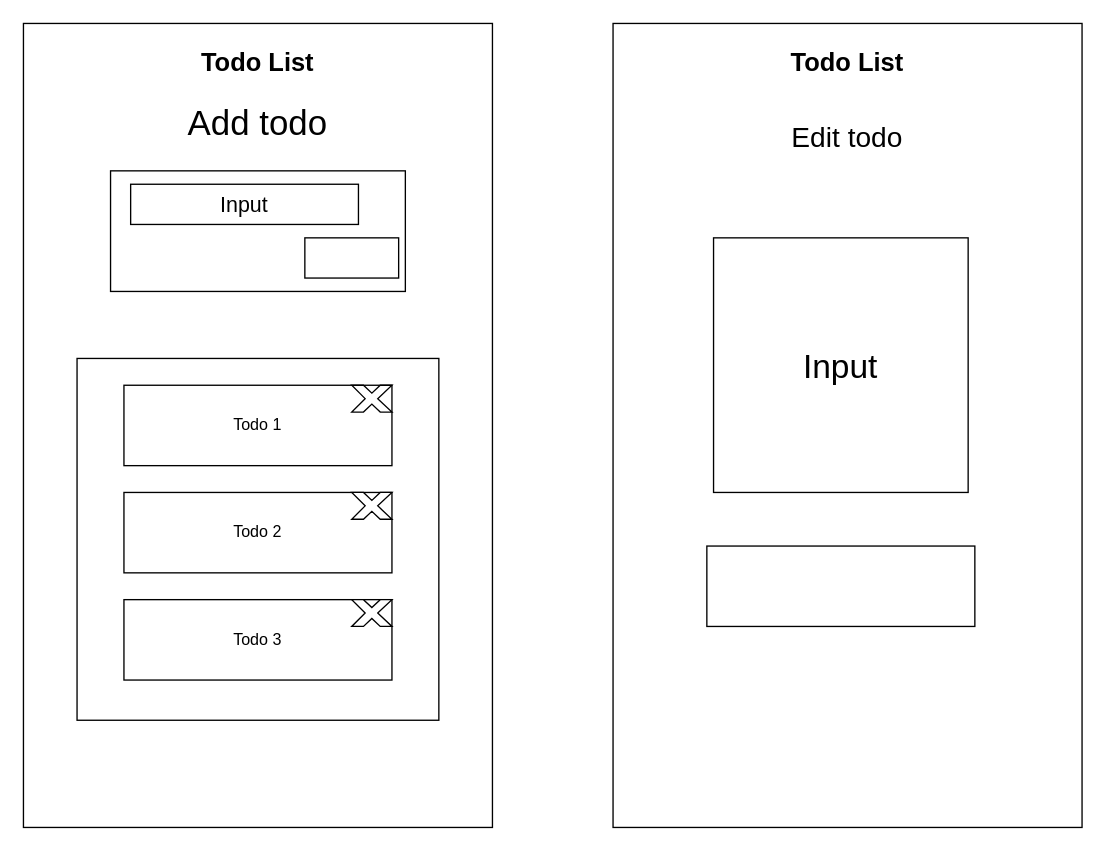
This 1106x851 diagram has some shape labels left out. Here are the shapes that lost their labels. From the top down, the box of each, then its label:
(304, 237, 399, 278): Add
(706, 545, 975, 626): Update todo
